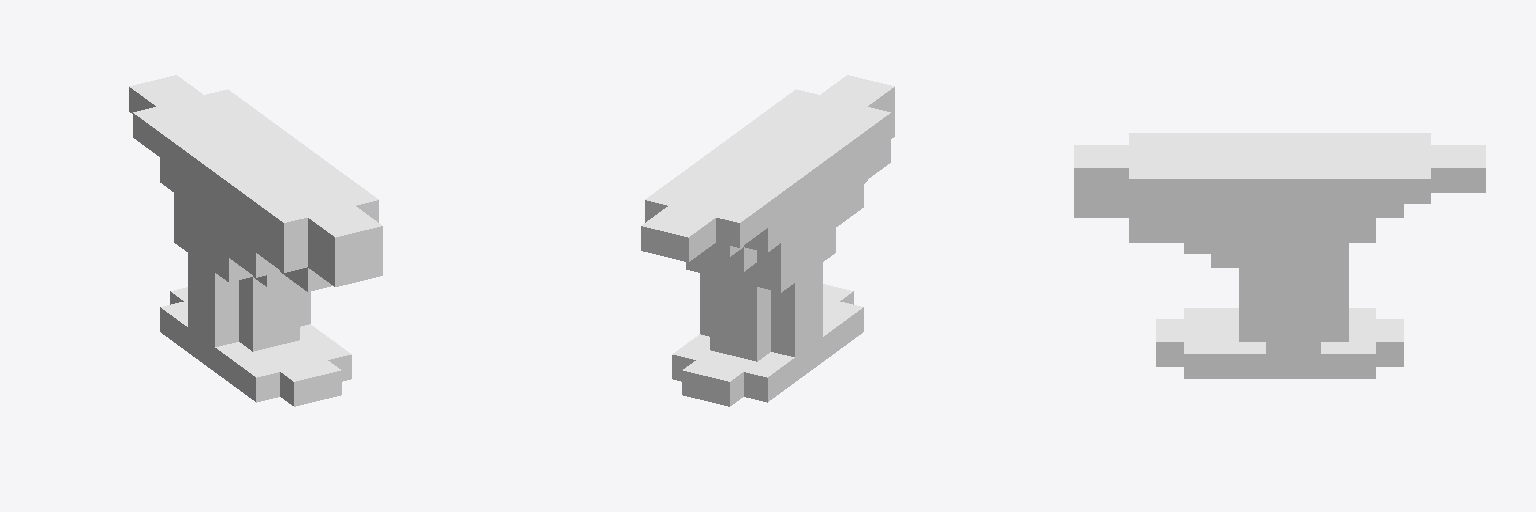
The model's file is Anvil.obj.
The picture shows the model from 3 angles: view 1: azimuth 30°, elevation 25°; view 2: azimuth 150°, elevation 25°; view 3: azimuth 270°, elevation 25°; orthographic projection.
Parts seen in each view (by area): view 1: object 1; view 2: object 1; view 3: object 1.
Part boxes in pixels (x1,y1,x2,y2): object 1: (129, 75, 382, 406); object 1: (641, 75, 894, 406); object 1: (1074, 133, 1485, 378).
Bounding box in the file's own units: 0.4 × 0.8 × 1.5.